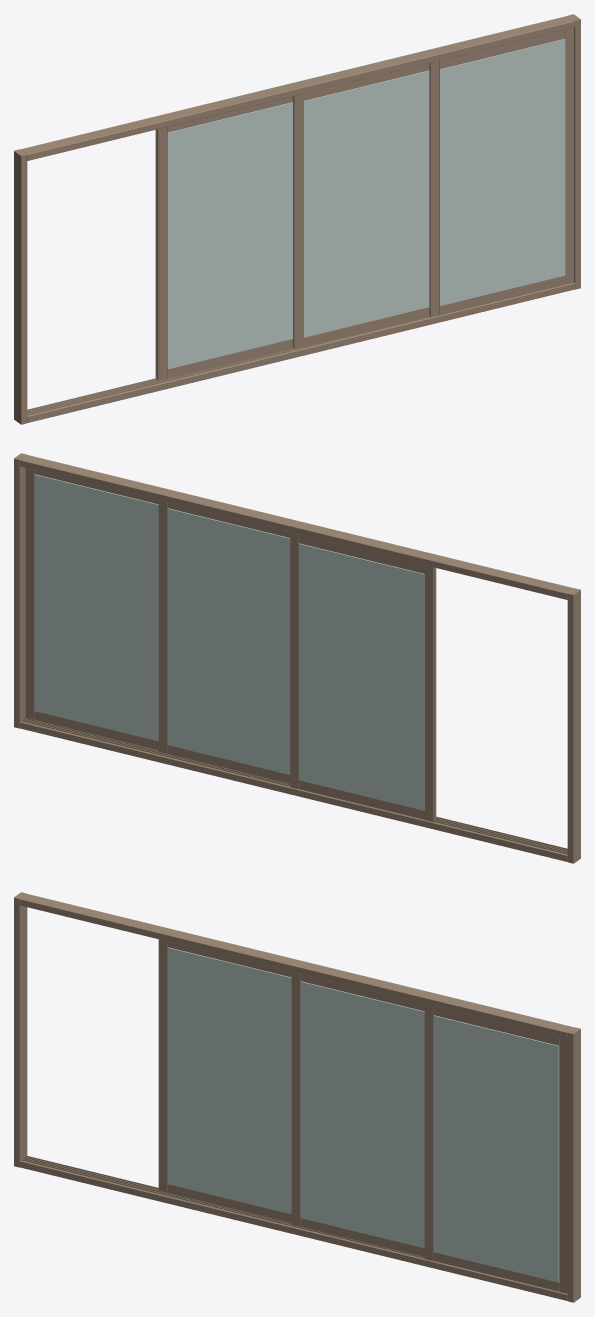
File: co-S110P-4-quartz-1019-ouvert.glb
The picture shows the model from 3 angles, top to bottom: view 1: azimuth 30°, elevation 25°; view 2: azimuth 150°, elevation 25°; view 3: azimuth 330°, elevation 25°; orthographic projection.
Visible parts, largest first — view 1: verre, structure; view 2: verre, structure; view 3: verre, structure.
Part boxes in pixels (x1,y1,x2,y2): verre: (167,39,565,369); structure: (14,14,580,424); verre: (34,474,424,810); structure: (14,453,580,863); verre: (167,947,559,1282); structure: (14,892,580,1302).
Size of the model in its own units: 4.8 by 2.2 by 0.11.
